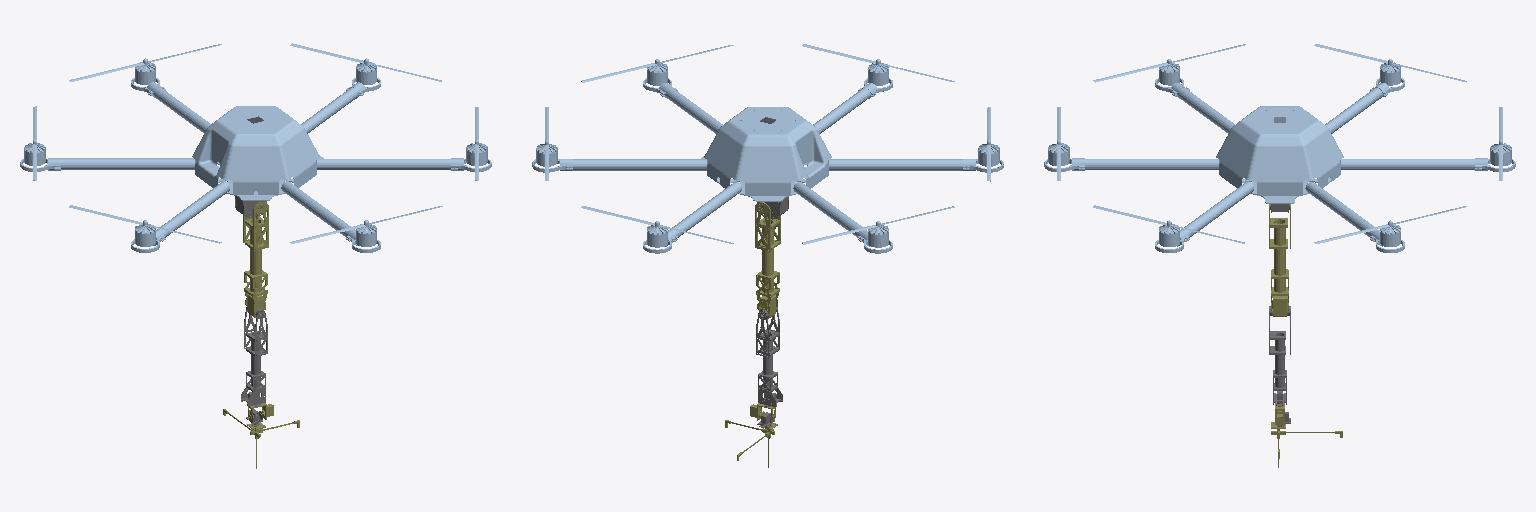
The robot description file, URDF, robot "uam_urdf":
<?xml version="1.0" encoding="utf-8"?>
<!-- This URDF was automatically created by SolidWorks to URDF Exporter! Originally created by [author] ([email redacted]) 
     Commit Version: 1.5.0-0-g9aa0fdb  Build Version: 1.5.7004.21443
     For more information, please see http://wiki.ros.org/sw_urdf_exporter -->
<robot name="uam_urdf">
 <link
    name="uav_link">
    <visual>
      <origin
        xyz="0 0 0"
        rpy="0 0 1.5708" />
      <geometry>
        <mesh
          filename="package://robot_urdf/meshes/uav800_small.STL" />
      </geometry>
      <material
        name="">
        <color
          rgba="0.7 0.8 0.9 1" />
      </material>
    </visual>
    <collision>
      <origin
        xyz="0 0 0"
        rpy="0 0 0" />
      <geometry>
        <mesh
          filename="package://robot_urdf/meshes/uav800_small.STL" />
      </geometry>
    </collision>
  </link>

  <joint    name="fixed_joint_uav"    type="fixed">
    <parent      link="uav_link" />
    <child      link="base_link" />
    <origin      xyz="0 0 -0.06"      rpy="3.1416 0 0" />
  </joint>

  <link name="base_link">
    <visual>
      <origin xyz="0 0 0" rpy="0 0 0" />
      <geometry>
        <mesh filename="package://robot_urdf/meshes/base_link.STL" />
      </geometry>
      <material name="">
        <color rgba="0.6 0.6 0.4 1" />
      </material>
    </visual>
    <collision>
      <origin xyz="0 0 0" rpy="0 0 0" />
      <geometry>
        <mesh filename="package://robot_urdf/meshes/base_link.STL" />
      </geometry>
    </collision>
  </link>

  <joint name="revolute_joint_0" type="revolute"> 
    <parent link="base_link"/> 
    <child link="link1"/> 
    <axis xyz="0 0 -1"/>  
    <origin xyz="0 0 0.0411" rpy="0 0 0"/> 
    <limit effort ="1000.0" lower="-2.618" upper="2.618" velocity="0.5"/>
  </joint>

  <link name="link1">
    <visual>
      <origin xyz="0 0 0" rpy="0 0 0" />
      <geometry>
        <mesh filename="package://robot_urdf/meshes/link1.STL" />
      </geometry>
      <material name="">
        <color rgba="0.5 0.5 0.5 1" />
      </material>
    </visual>
    <collision>
      <origin xyz="0 0 0" rpy="0 0 0" />
      <geometry>
        <mesh filename="package://robot_urdf/meshes/link1.STL" />
      </geometry>
    </collision>
  </link>

  <joint name="revolute_joint_1" type="revolute"> 
    <parent link="link1"/> 
    <child link="link2"/> 
    <axis xyz="0 0 1"/>  
    <origin xyz="0 0 0.0331" rpy="1.5708 -1.5708 3.1416"/> 
    <limit effort ="1000.0" lower="-1.5707963" upper="1.5707963" velocity="0.5"/>  
  </joint>

  <link name="link2">
    <visual>
      <origin xyz="0 0 0" rpy="0 0 0" />
      <geometry>
        <mesh filename="package://robot_urdf/meshes/link2.STL" />
      </geometry>
      <material name="">
        <color rgba="0.6 0.6 0.4 1" />
      </material>
    </visual>
    <collision>
      <origin xyz="0 0 0" rpy="0 0 0" />
      <geometry>
        <mesh filename="package://robot_urdf/meshes/link2.STL" />
      </geometry>
    </collision>
  </link>

  <joint name="revolute_joint_2" type="revolute"> 
    <parent link="link2"/> 
    <child link="link3"/> 
    <axis xyz="0 0 -1"/>  
    <origin xyz="0.25 0 0" rpy="0 0 -1.5708"/> 
    <limit effort ="1000.0" lower="-2.618" upper="2.618" velocity="0.5"/>  
  </joint>
  
  <link name="link3">
    <visual>
      <origin xyz="0 0 0" rpy="0 0 0" />
      <geometry>
        <mesh filename="package://robot_urdf/meshes/link3.STL" />
      </geometry>
      <material name="">
        <color rgba="0.5 0.5 0.5 1" />
      </material>
    </visual>
    <collision>
      <origin xyz="0 0 0" rpy="0 0 0" />
      <geometry>
        <mesh filename="package://robot_urdf/meshes/link3.STL" />
      </geometry>
    </collision>
  </link>
  
  <joint name="revolute_joint_3" type="revolute"> 
    <parent link="link3"/> 
    <child link="link4"/> 
    <axis xyz="0 0 1"/>  
    <origin xyz="0 0.2194 0" rpy="-1.5708 -1.5708 0"/> 
    <limit effort ="1000.0" lower="-6.28" upper="6.28" velocity="0.5"/>
  </joint>

  <link name="link4">
    <visual>
      <origin xyz="0 0 0" rpy="0 0 0" />
      <geometry>
        <mesh filename="package://robot_urdf/meshes/link4.STL" />
      </geometry>
      <material name="">
        <color rgba="0.6 0.6 0.4 1" />
      </material>
    </visual>
    <collision>
      <origin xyz="0 0 0" rpy="0 0 0" />
      <geometry>
        <mesh filename="package://robot_urdf/meshes/link4.STL" />
      </geometry>
    </collision>
  </link>

  <joint name="revolute_joint_4" type="revolute"> 
    <parent link="link4"/> 
    <child link="link5"/> 
    <axis xyz="0 0 1"/>  
    <origin xyz="0 0 0.026516" rpy="1.5708 -1.5708 0"/> 
    <limit effort ="1000.0" lower="-1.6" upper="1.6" velocity="0.5"/>
  </joint>

  <link name="link5">
    <visual>
      <origin xyz="0 0 0" rpy="0 0 0" />
      <geometry>
        <mesh filename="package://robot_urdf/meshes/link5.STL" />
      </geometry>
      <material name="">
        <color rgba="0.5 0.5 0.5 1" />
      </material>
    </visual>
    <collision>
      <origin xyz="0 0 0" rpy="0 0 0" />
      <geometry>
        <mesh filename="package://robot_urdf/meshes/link5.STL" />
      </geometry>
    </collision>
  </link>

  <joint name="revolute_joint_5" type="revolute"> 
    <parent link="link5"/> 
    <child link="link6"/> 
    <axis xyz="0 0 1"/>  
    <origin xyz="0.02085 -0.0032368 0" rpy="1.5708 0 1.5708"/>
    <limit effort ="1000.0" lower="-6.28" upper="6.28" velocity="0.5"/>
  </joint>

  <link name="link6">
    <visual>
      <origin xyz="0 0 0" rpy="0 0 0" />
      <geometry>
        <mesh filename="package://robot_urdf/meshes/end_link.STL" />
      </geometry>
      <material name="">
        <color rgba="0.6 0.6 0.4 1" />
      </material>
    </visual>
    <collision>
      <origin xyz="0 0 0" rpy="0 0 0" />
      <geometry>
        <mesh filename="package://robot_urdf/meshes/end_link.STL" />
      </geometry>
    </collision>
  </link>

  <joint name="fixed_joint_0" type="fixed"> 
  <parent link="link6"/> 
  <child link="end_link"/> 
  <origin xyz="0 0 0.07" rpy="3.1416 -1.5708 0"/> 
  </joint>

  <link name="end_link">
  </link>

</robot>
  

--- Render facts (derived) ---
The picture shows the robot from 3 angles, left to right: view 1: azimuth 30°, elevation 25°; view 2: azimuth 150°, elevation 25°; view 3: azimuth 270°, elevation 25°; orthographic projection.
Model uam_urdf with 9 links and 8 joints (6 revolute, 2 fixed), rooted at uav_link, posed all joints at 0.
Links seen in each view (by area): view 1: uav_link, link2, link3; view 2: uav_link, link2, link3; view 3: uav_link, link2, link3.
Boxes of the visible links, <box> form: uav_link: <box>20,43,491,252</box>; link2: <box>243,202,268,317</box>; link3: <box>241,307,267,406</box>; uav_link: <box>532,44,1003,253</box>; link2: <box>755,202,780,318</box>; link3: <box>756,307,782,406</box>; uav_link: <box>1044,44,1515,252</box>; link2: <box>1269,204,1290,316</box>; link3: <box>1269,306,1290,406</box>.
Bounding box of the posed robot: 1 × 0.9962 × 0.812 m (x, y, z).
Meshes: 8 distinct files referenced, 8 mesh visuals loaded (8 binary STL).